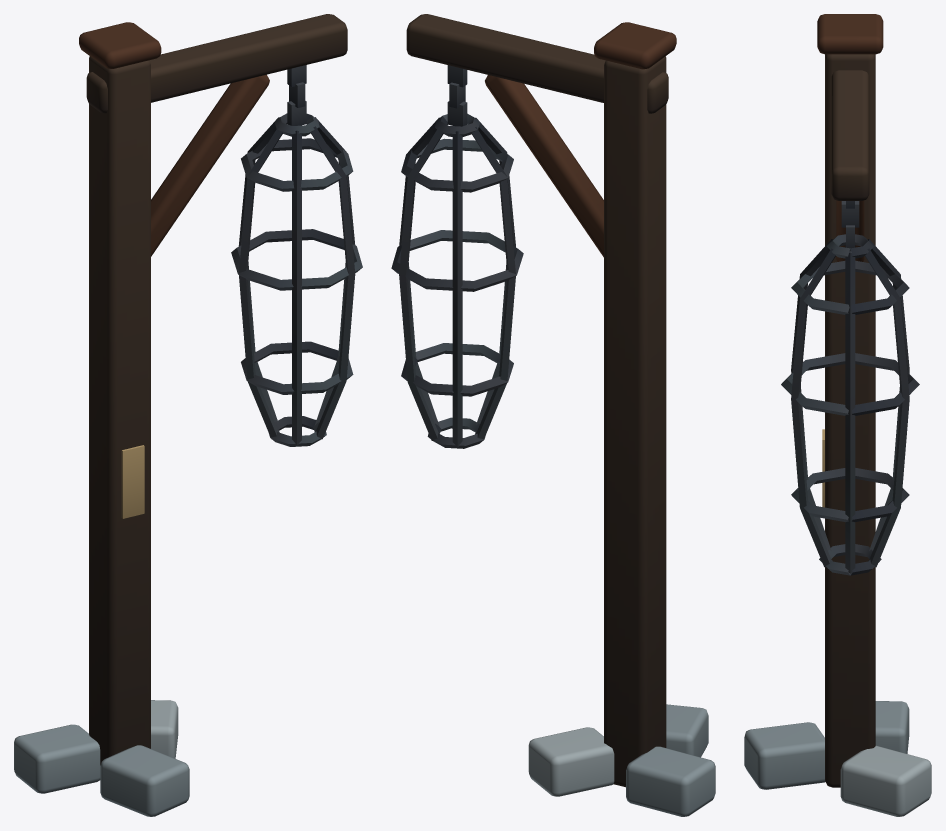
Rendered from gibbet.glb.
The picture shows the model from 3 angles, left to right: view 1: azimuth 30°, elevation 25°; view 2: azimuth 150°, elevation 25°; view 3: azimuth 270°, elevation 25°; orthographic projection.
Parts seen in each view (by area): view 1: gibbet, gibbet_trim; view 2: gibbet, gibbet_trim; view 3: gibbet, gibbet_trim.
Boxes of the visible parts, box(x1,y1,x2,y2) form: gibbet: box(14, 14, 347, 816); gibbet_trim: box(121, 65, 362, 518); gibbet: box(406, 14, 715, 816); gibbet_trim: box(391, 65, 523, 448); gibbet: box(744, 14, 931, 816); gibbet_trim: box(781, 201, 919, 575).
Size of the model in its own units: 1.47 by 3.28 by 0.7379.
